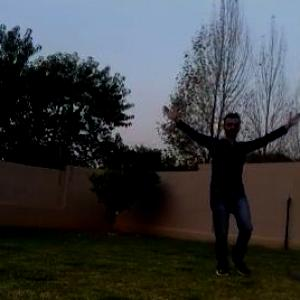takeoff: (159, 106, 295, 273)
